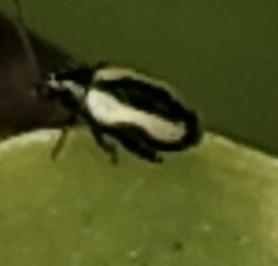flea_beetle: (0, 36, 238, 190)
